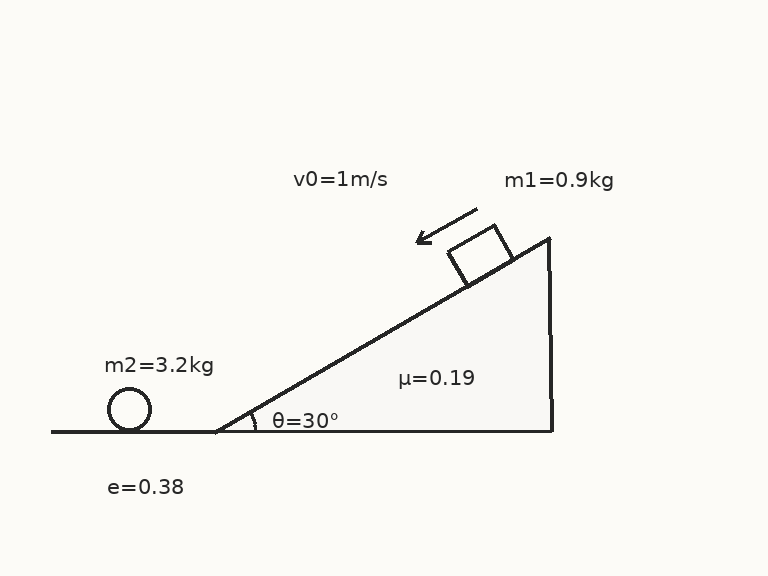ball: (105, 385, 153, 433)
block: (445, 223, 515, 288)
ramp: (213, 235, 552, 433)
